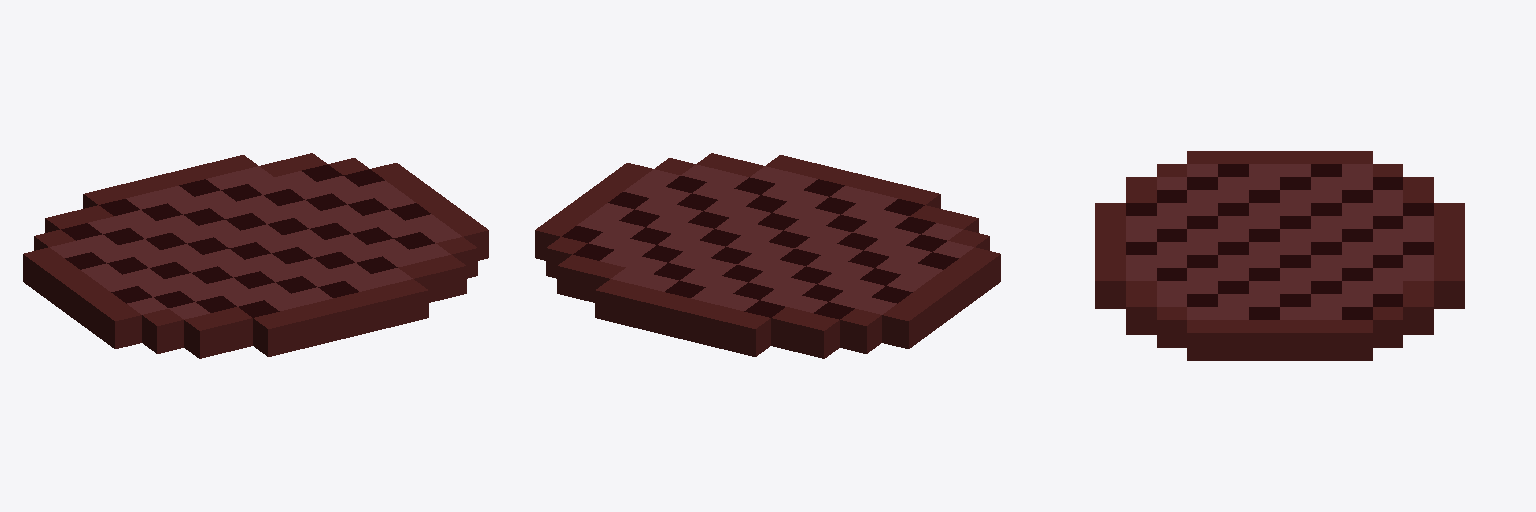
The picture shows the model from 3 angles: view 1: azimuth 30°, elevation 25°; view 2: azimuth 150°, elevation 25°; view 3: azimuth 270°, elevation 25°; orthographic projection.
Parts seen in each view (by area): view 1: object 1; view 2: object 1; view 3: object 1.
Part boxes in pixels (x1,y1,x2,y2): object 1: (23, 153, 488, 358); object 1: (535, 153, 1000, 358); object 1: (1095, 151, 1464, 360).
Bounding box in the file's own units: 1.4 × 0.1 × 1.2.
Materials: 1 (1 with a texture image).